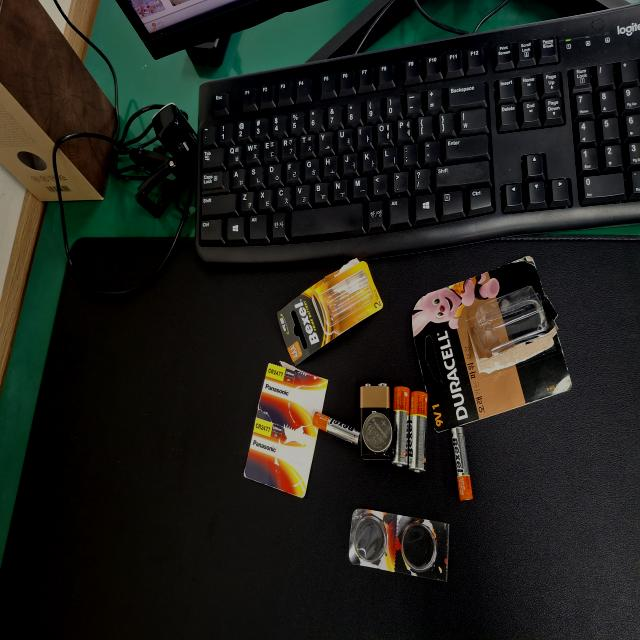9V: (288, 329, 346, 375)
AA: (290, 304, 350, 332), (294, 284, 354, 310)
AAA: (320, 222, 376, 252), (309, 374, 333, 436)
COIN: (309, 330, 339, 372)
